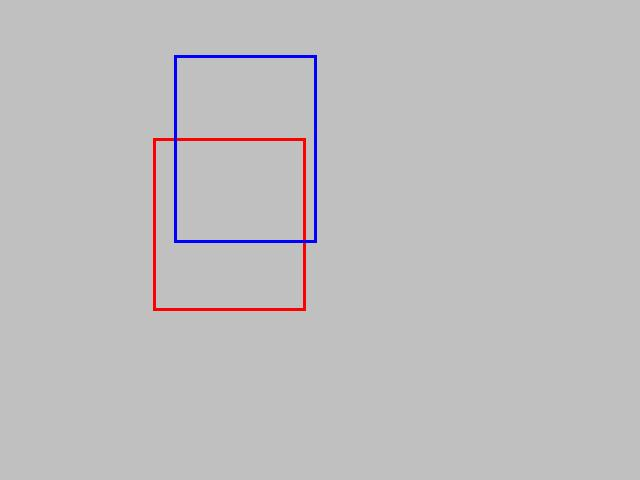car: (174, 55, 316, 242)
person: (153, 138, 305, 310)
